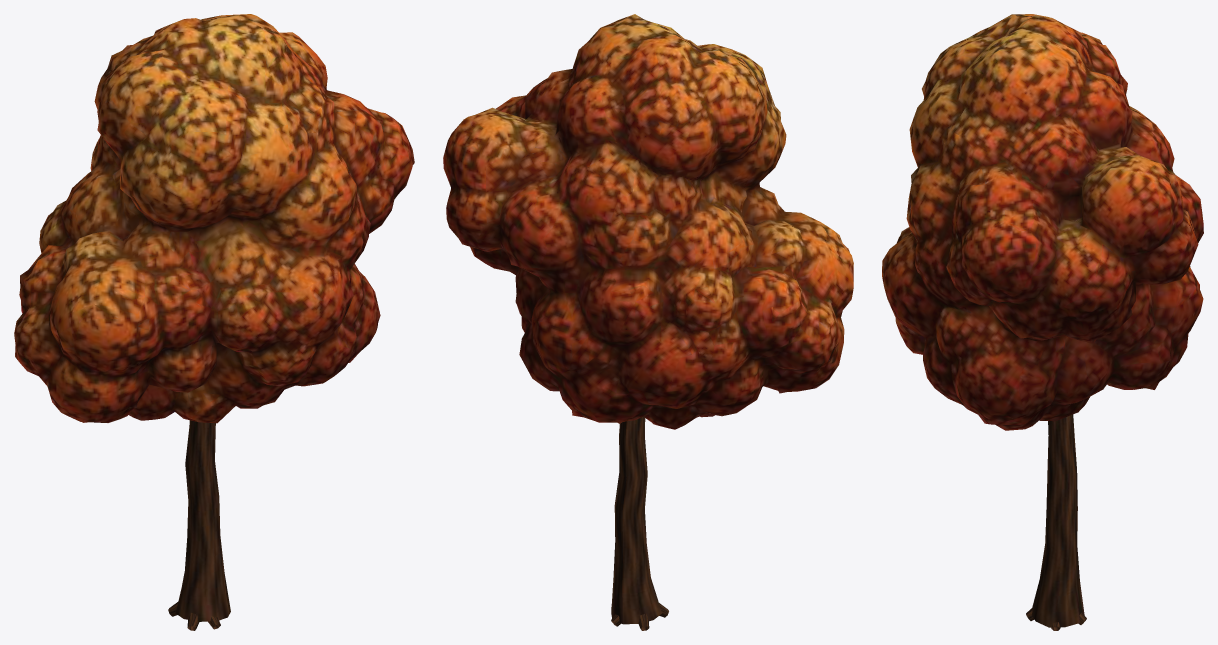
File: tree_maple_red_lod1.glb
3 views of the same model, side by side, from view 1: azimuth 30°, elevation 25°; view 2: azimuth 150°, elevation 25°; view 3: azimuth 270°, elevation 25° (orthographic). The views are drawn at different scales.
Visible parts, largest first — view 1: tree_maple_red_crown1, trunk.001; view 2: tree_maple_red_crown1, trunk.001; view 3: tree_maple_red_crown1, trunk.001.
Boxes of the visible parts, <box> form: tree_maple_red_crown1: <box>14,14,414,423</box>; trunk.001: <box>168,420,230,630</box>; tree_maple_red_crown1: <box>443,14,853,429</box>; trunk.001: <box>611,416,668,630</box>; tree_maple_red_crown1: <box>882,14,1203,430</box>; trunk.001: <box>1026,414,1086,630</box>.
Bounding box in the file's own units: 2.7 × 4.18 × 2.07.
Materials: 2 (2 with a texture image).
